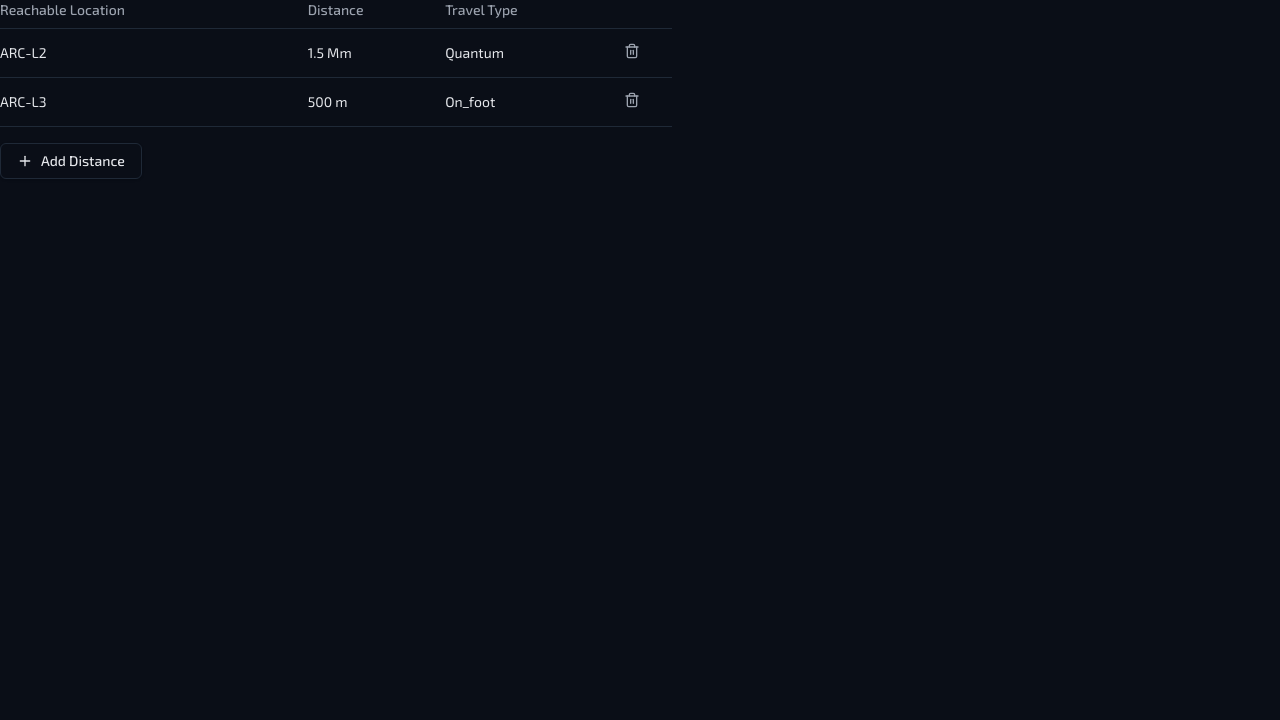
Test: DistancesTab › closes delete dialog when Cancel is clicked
The image size is (1280, 720).
Expected: the text "ARC-L2" is shown, [0, 28, 308, 78]
Step 1. Click the button named "Delete distance to ARC-L2" → (632, 51), box [624, 43, 640, 59]
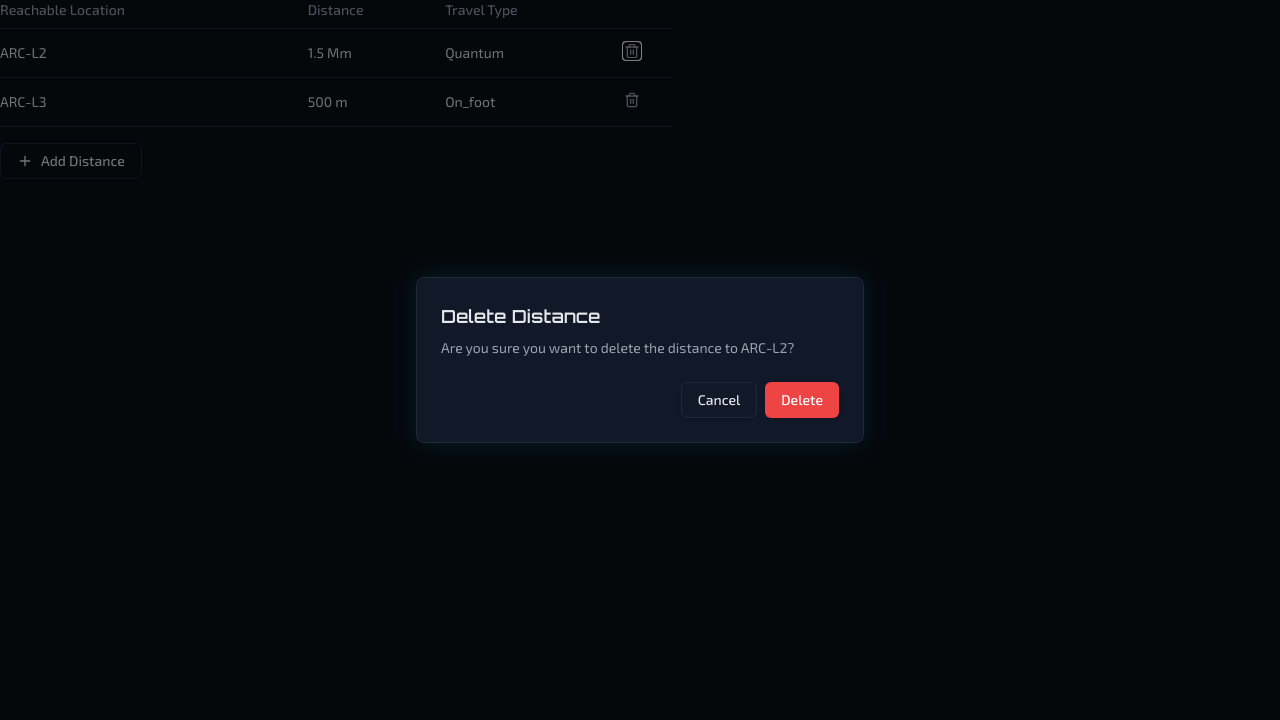
Now the dialog is shown
Step 2. Click the button "Cancel" → (719, 400), box [681, 382, 757, 418]
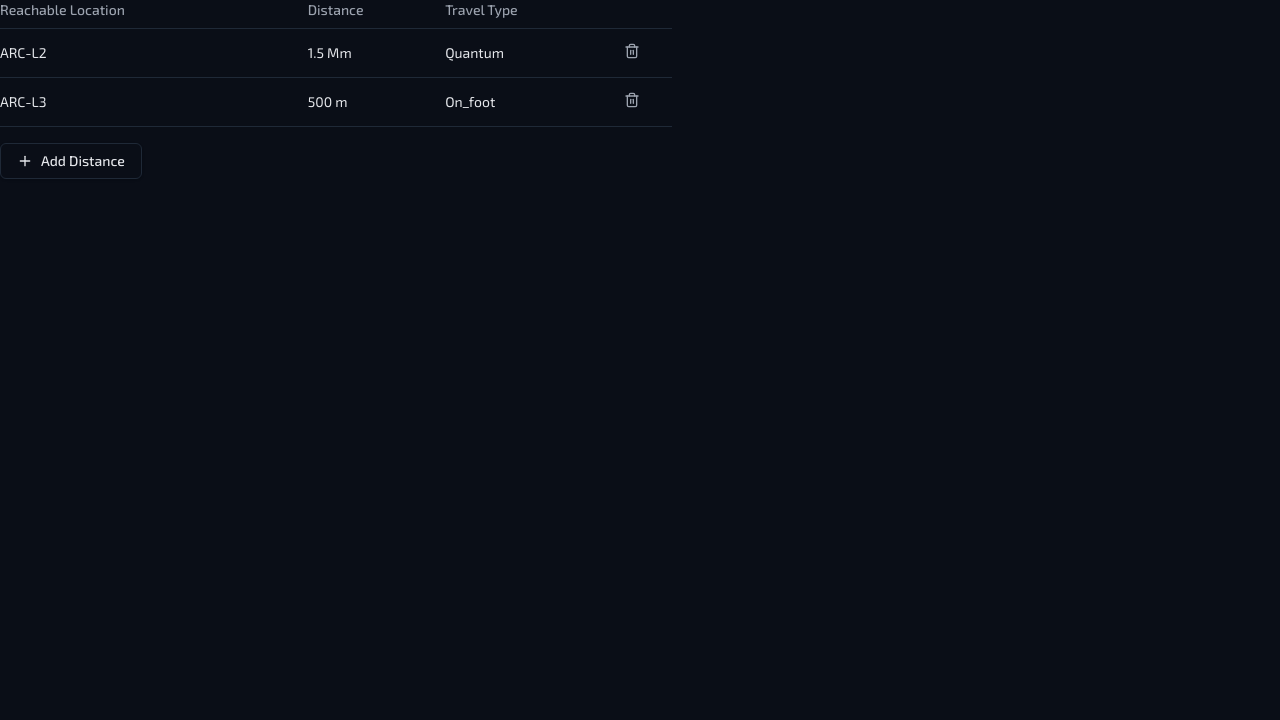
Now the dialog is gone
